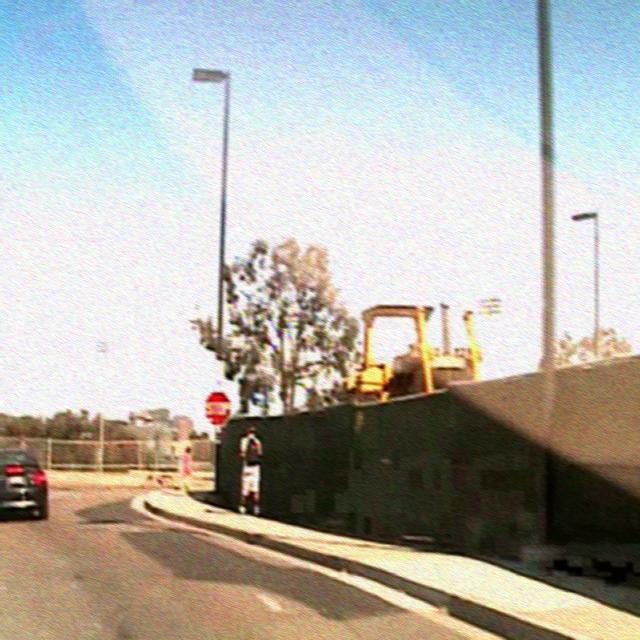stop: (202, 389, 232, 427)
